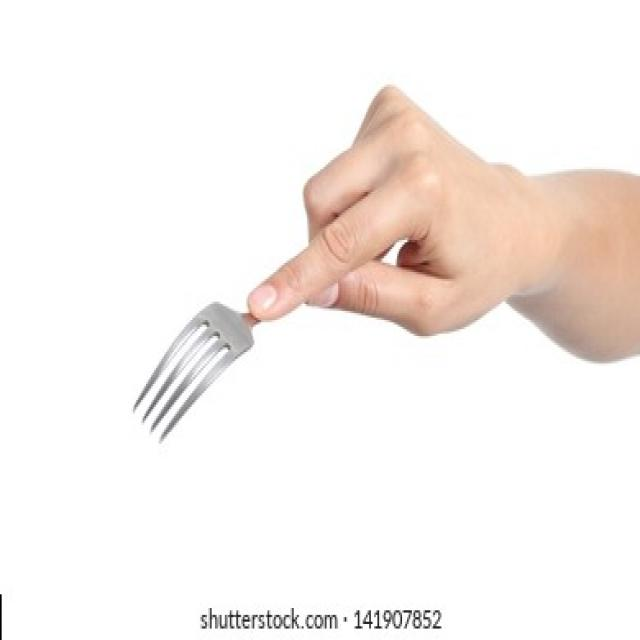fork: (132, 185, 398, 448)
